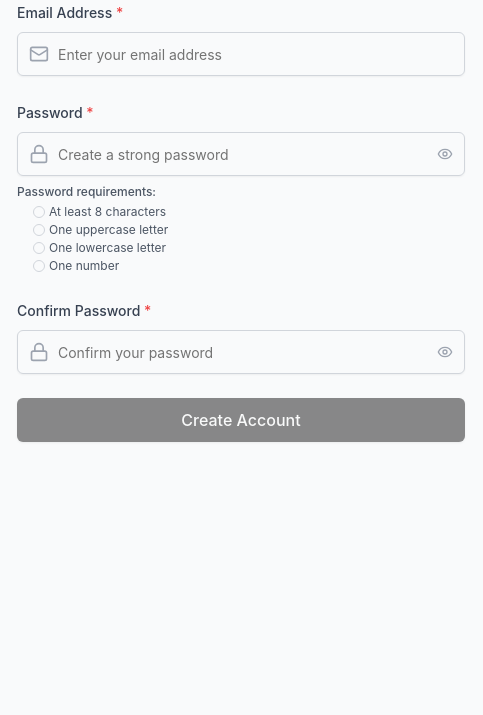
Test: RegisterForm › Validation errors › should not show "please check your information" message for network errors
Note: Fill form with minimal valid data
Type "test@example.com" into the field labelled "Email Address *" at (241, 54), box top-left (17, 32), bottom-right (465, 76)
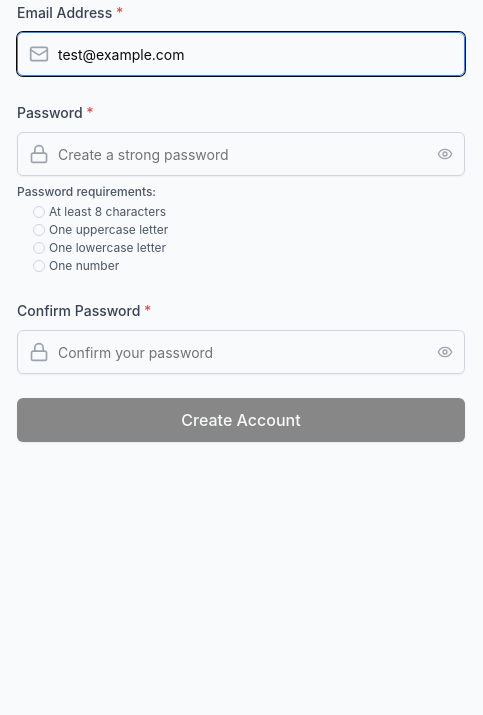
Type "ValidPass123" into the password field labelled "Password *" at (241, 154), box top-left (17, 132), bottom-right (465, 176)
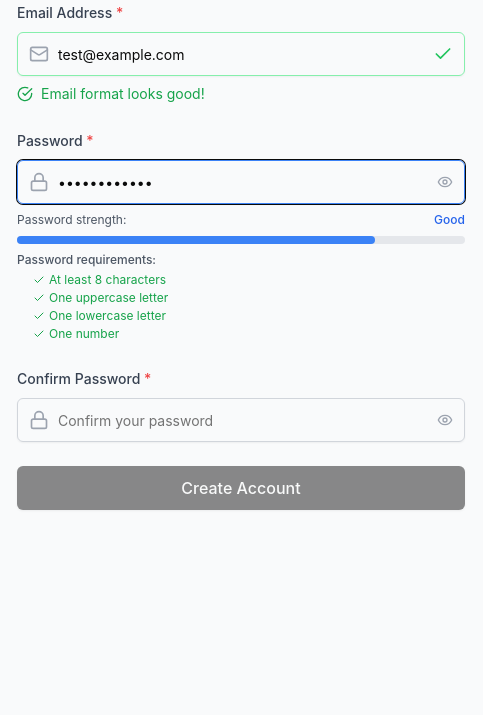
Type "ValidPass123" into the password field labelled "Confirm Password *" at (241, 420), box top-left (17, 398), bottom-right (465, 442)
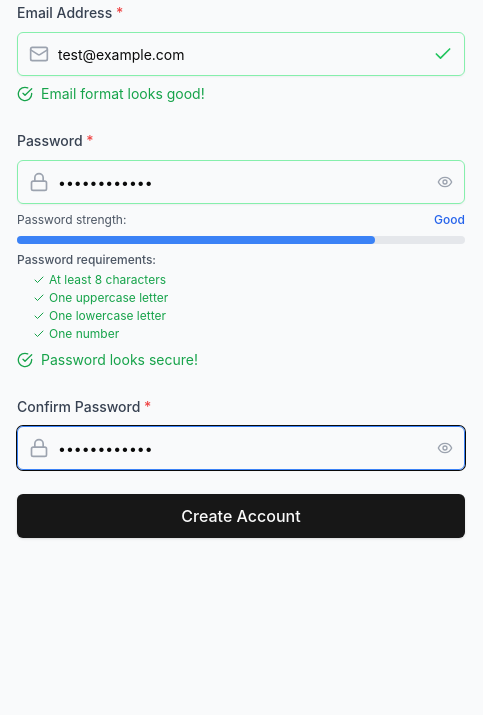
Note: Submit form - should fail with network error
Click the button "Create Account" at (241, 516), box top-left (17, 494), bottom-right (465, 538)
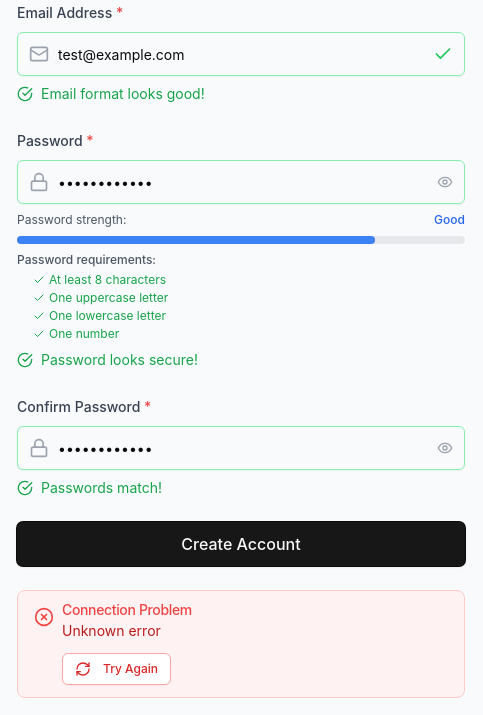
expect the heading "Connection Problem" is shown: met, box top-left (62, 601), bottom-right (192, 618)
expect the button "Try Again" is shown: met, box top-left (62, 653), bottom-right (171, 685)
